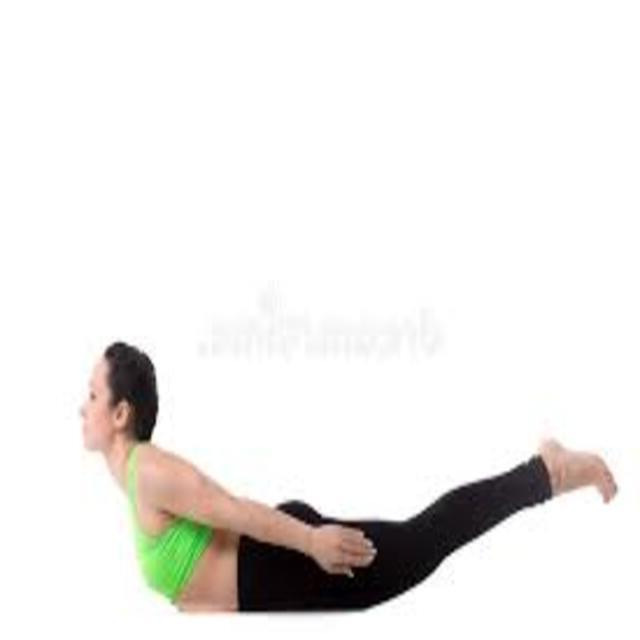Locust_Pose: (79, 343, 622, 615)
